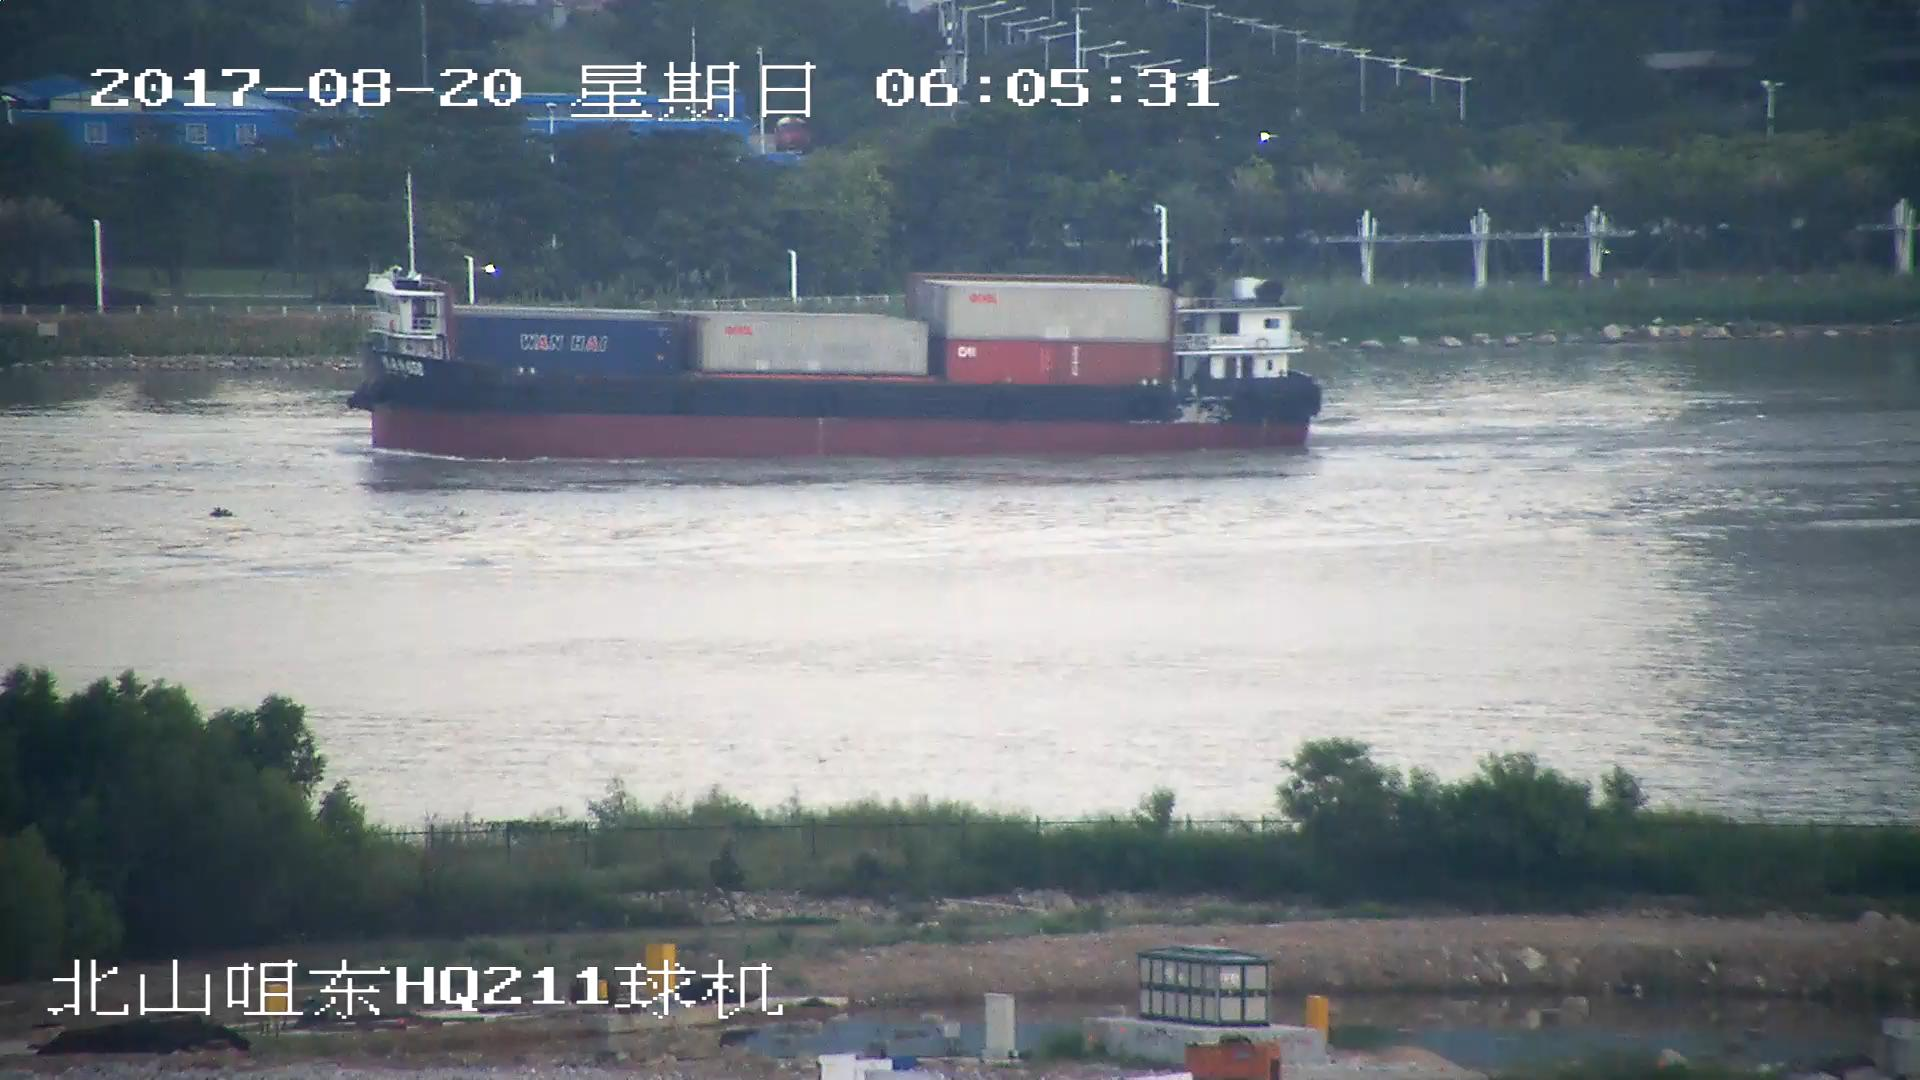container ship: (350, 179, 1320, 459)
